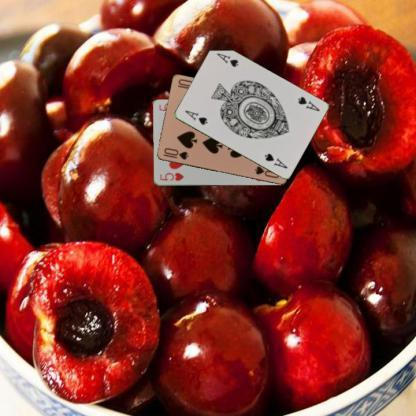10s: (160, 146, 190, 162)
5h: (157, 170, 185, 182)
As: (182, 107, 209, 126), (294, 94, 320, 113)
